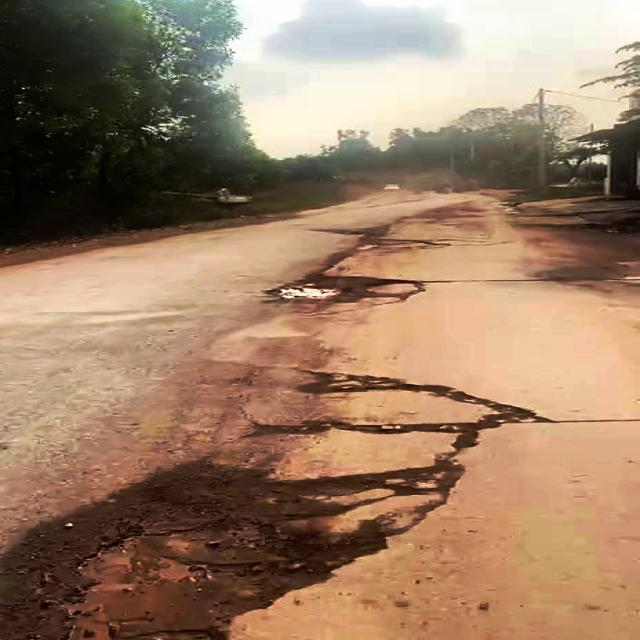pothole: (0, 462, 462, 640), (252, 372, 530, 438), (266, 271, 436, 303)
